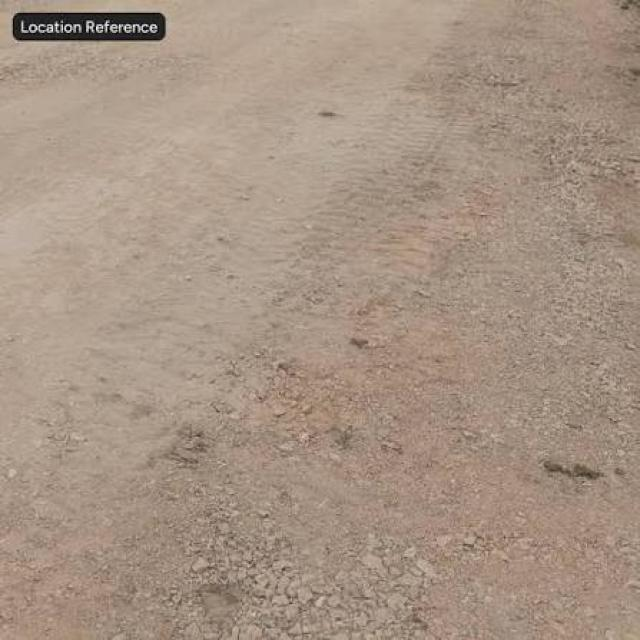suelo_seco: (100, 82, 525, 597)
